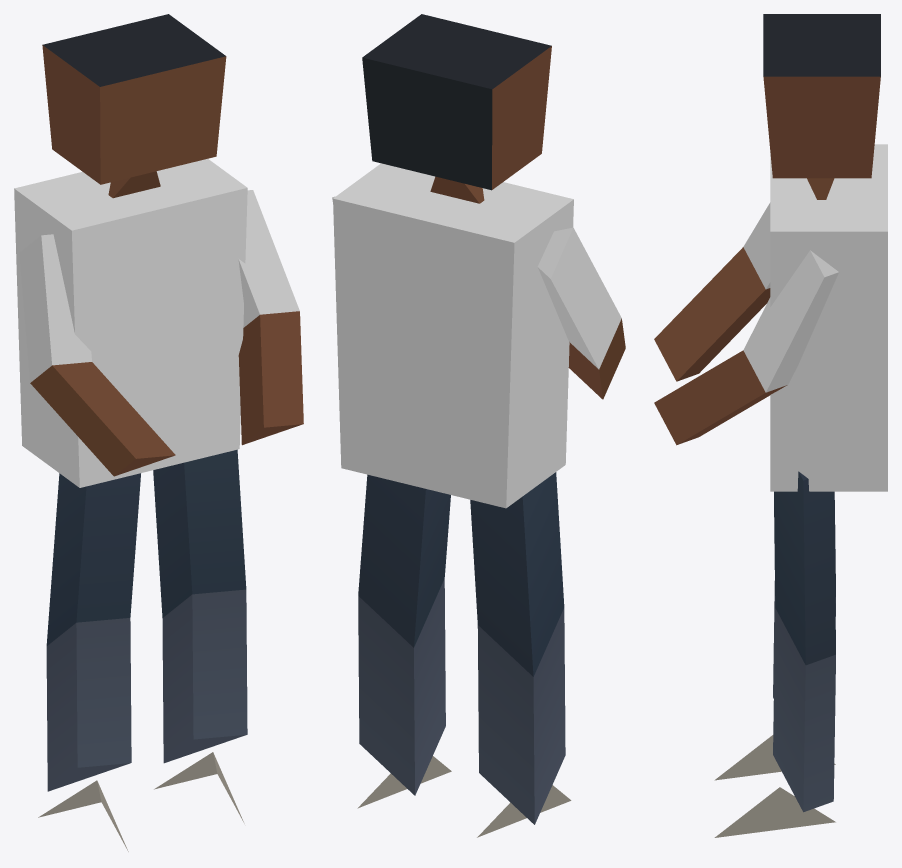
Rendered from fan-07.glb.
The picture shows the model from 3 angles, left to right: view 1: azimuth 30°, elevation 25°; view 2: azimuth 150°, elevation 25°; view 3: azimuth 270°, elevation 25°; orthographic projection. The views are drawn at different scales.
Visible parts, largest first — view 1: fan-07; view 2: fan-07; view 3: fan-07.
Boxes of the visible parts, bbox=[...] form: fan-07: bbox=[14, 14, 303, 851]; fan-07: bbox=[332, 14, 625, 837]; fan-07: bbox=[654, 14, 887, 837].
Size of the model in its own units: 0.6475 by 1.79 by 0.4978.
